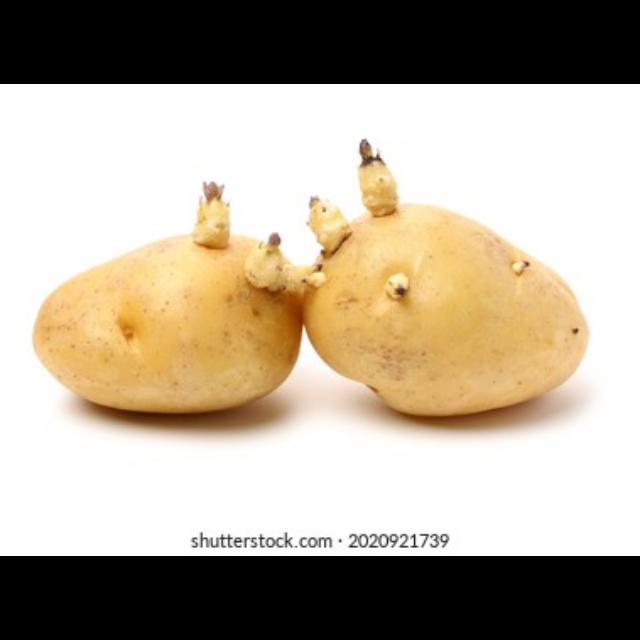Sprouted potato: (288, 152, 596, 426), (31, 172, 356, 418)
